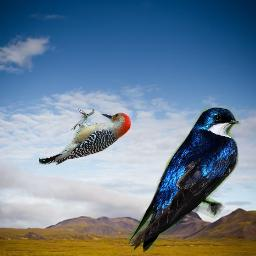Swallow: (127, 107, 241, 253)
Woodpecker: (39, 108, 132, 166)
